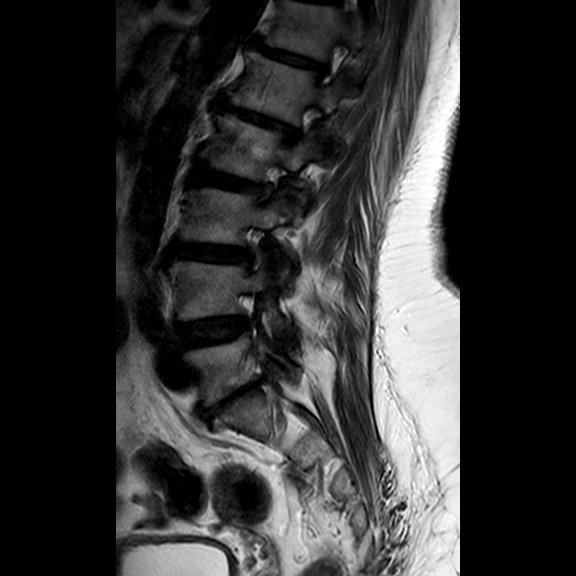LFS0: (271, 95, 324, 154), (226, 216, 274, 279)
